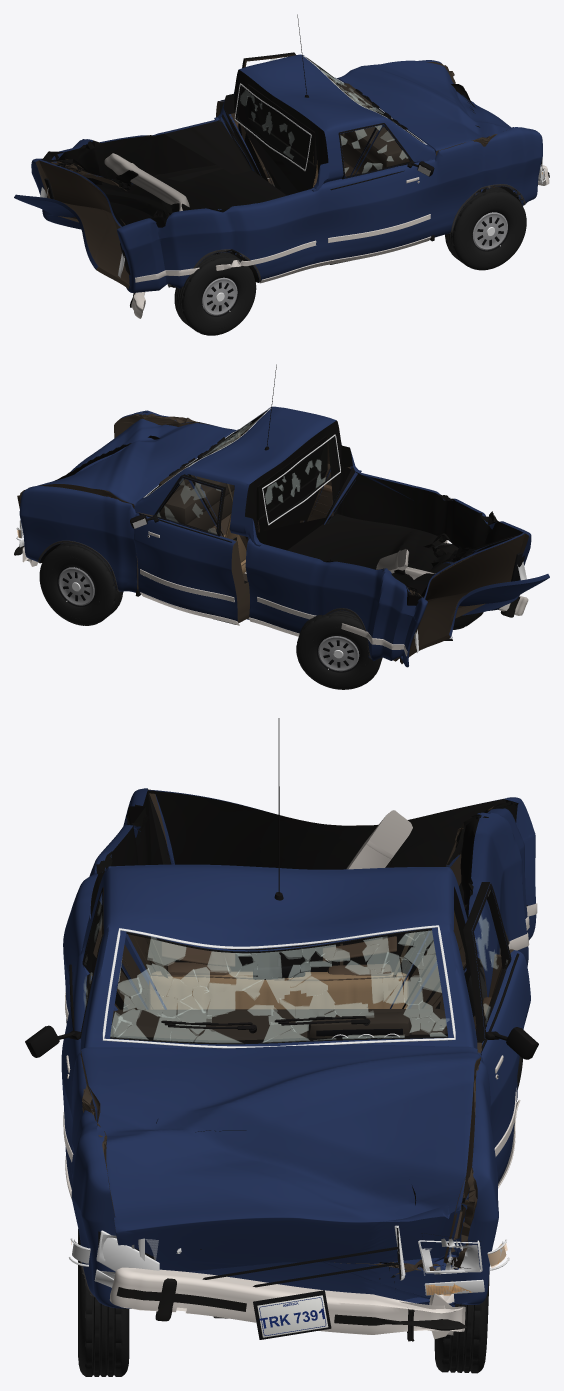
Rendered from pickup87_rear_d2.glb.
The picture shows the model from 3 angles, top to bottom: view 1: azimuth 30°, elevation 25°; view 2: azimuth 150°, elevation 25°; view 3: azimuth 270°, elevation 25°; orthographic projection. The views are drawn at different scales.
Visible parts, largest first — view 1: Body, Hood, Wheel_FR_mesh, Wheel_RR_mesh, Door_FR, Tailgate, Interior, Trim, Trim_FR, Bumper_R, Glass, Glass_FR (+2 smaller); view 2: Body, Door_FL, Hood, Wheel_FL_mesh, Wheel_RL_mesh, Tailgate, Interior, Glass, Trim, Trim_FL, Bumper_R, Glass_FL (+2 smaller); view 3: Body, Hood, Glass, Interior, Bumper_F, Ends, Door_FL, Wheel_FR_mesh, Wheel_FL_mesh, Trim_FL, Trim, Bumper_R (+3 smaller).
Part boxes in pixels (x1,y1,x2,y2): Body: (31,54,542,292); Hood: (337,60,511,187); Wheel_FR_mesh: (445,186,526,270); Wheel_RR_mesh: (174,252,256,335); Door_FR: (324,123,433,260); Tailgate: (14,194,130,288); Interior: (313,83,407,186); Trim: (135,14,525,286); Trim_FR: (324,123,434,265); Bumper_R: (104,153,189,318); Glass: (234,55,426,170); Glass_FR: (340,125,410,179); Body: (17,406,531,667); Door_FL: (134,474,249,622); Hood: (37,418,235,508); Wheel_FL_mesh: (39,543,123,625); Wheel_RL_mesh: (296,610,382,689); Tailgate: (400,574,549,663); Interior: (158,438,246,573); Glass: (143,408,340,525); Trim: (38,364,448,660); Trim_FL: (130,476,239,625); Bumper_R: (376,549,528,617); Glass_FL: (156,475,223,536); Body: (61,788,536,1308); Hood: (80,1044,480,1277); Glass: (102,925,455,1048); Interior: (110,936,447,1040); Bumper_F: (109,1267,466,1341); Ends: (69,905,527,1339); Door_FL: (463,882,530,1183); Wheel_FR_mesh: (78,1229,129,1376); Wheel_FL_mesh: (434,1205,489,1373); Trim_FL: (472,883,538,1188); Trim: (65,718,537,1297); Bumper_R: (346,810,412,869).
Bounding box in the file's own units: 4.77 × 2.59 × 2.36.
Materials: 33 (5 with a texture image).
